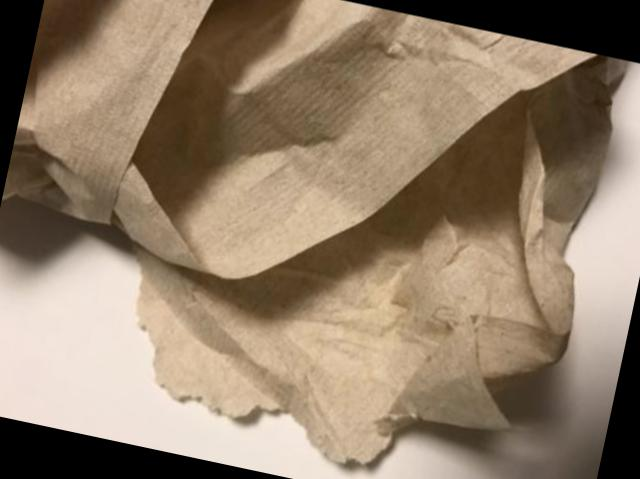cardboard paper: (2, 0, 622, 464)
